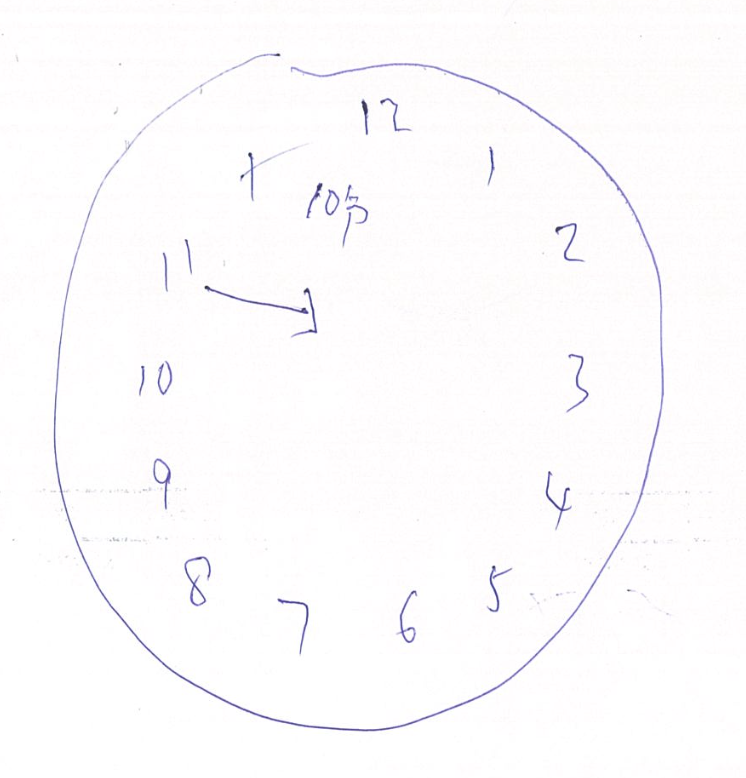1: (481, 143, 507, 189)
10: (133, 358, 176, 404), (303, 179, 344, 226)
11: (154, 232, 195, 297)
12: (350, 95, 417, 137)
2: (543, 217, 593, 267)
3: (561, 345, 592, 417)
4: (538, 469, 576, 529)
5: (482, 561, 516, 615)
6: (393, 587, 425, 647)
7: (272, 593, 313, 657)
8: (176, 554, 214, 609)
9: (147, 455, 173, 514)
contour: (45, 47, 669, 736)
